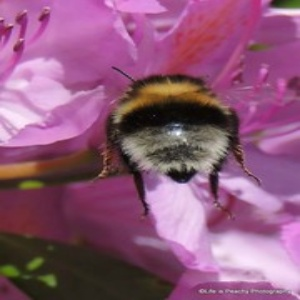bee: (118, 74, 242, 196)
